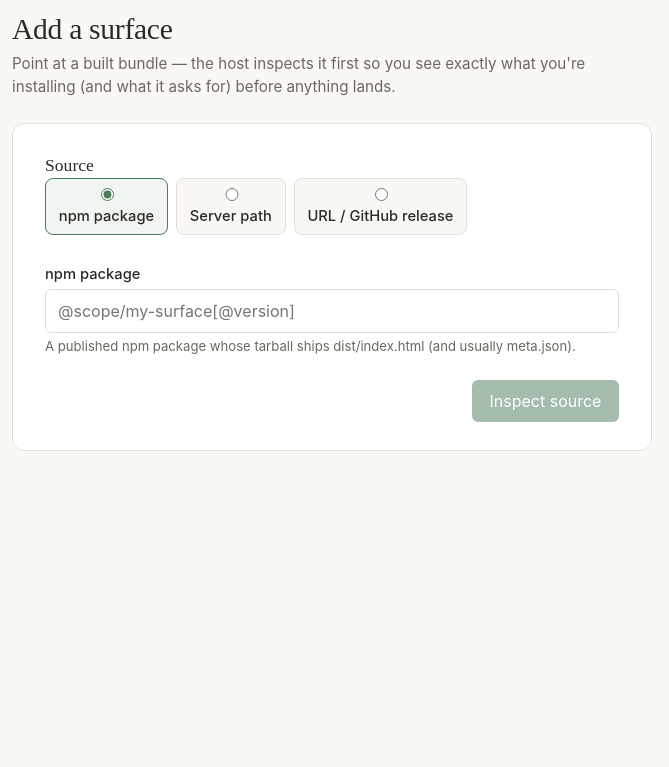
Scenario: Add — inspect step › a GitHub-resolved source shows the release (tag + asset) in the confirm step
Click the radio button labelled "URL / GitHub release" at [381, 195], box [312,188,450,202]
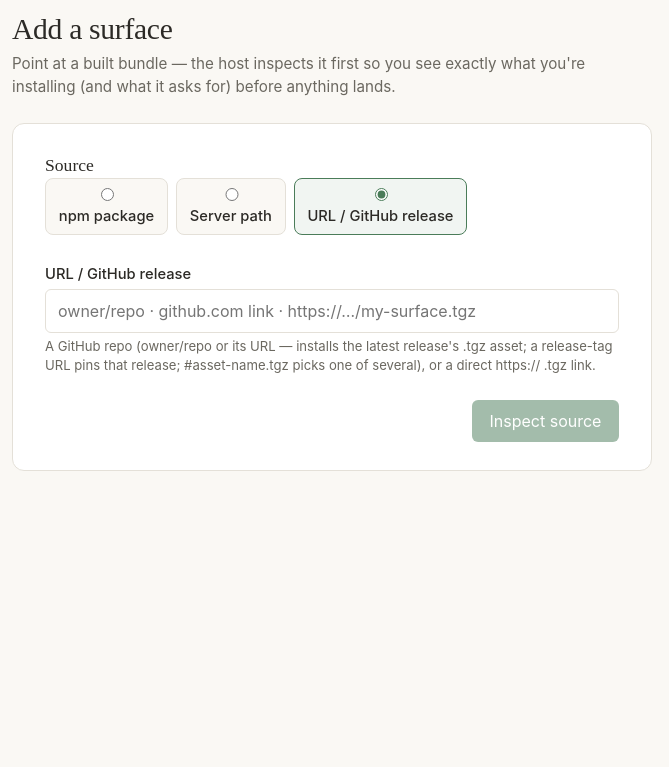
Type "Unforced-Dev/WovenBoulder" into the field with placeholder "owner/repo · github.com link · https://…/my-surface.tgz" at [332, 311], box [45,289,619,333]
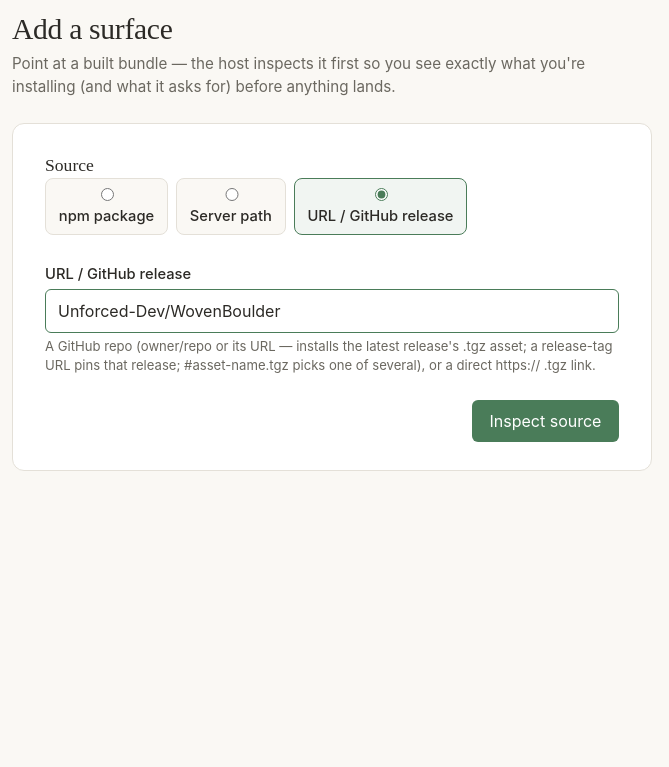
Click the button "Inspect source" at [545, 421], box [472,400,619,442]
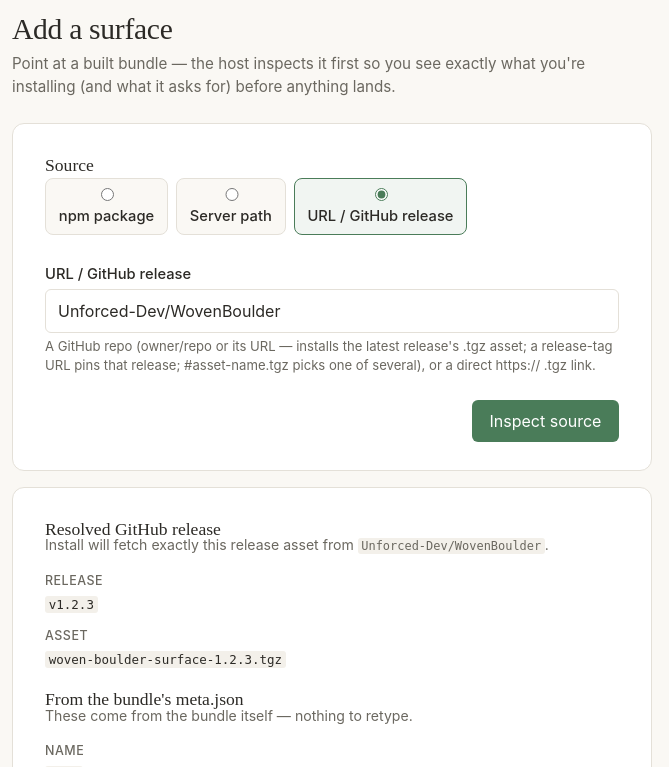
Now the text "Resolved GitHub release" is shown, box [45,516,221,542]
Now the text "Unforced-Dev/WovenBoulder" is shown, box [358,538,545,554]
Now the text "v1.2.3" is shown, box [45,596,98,613]
